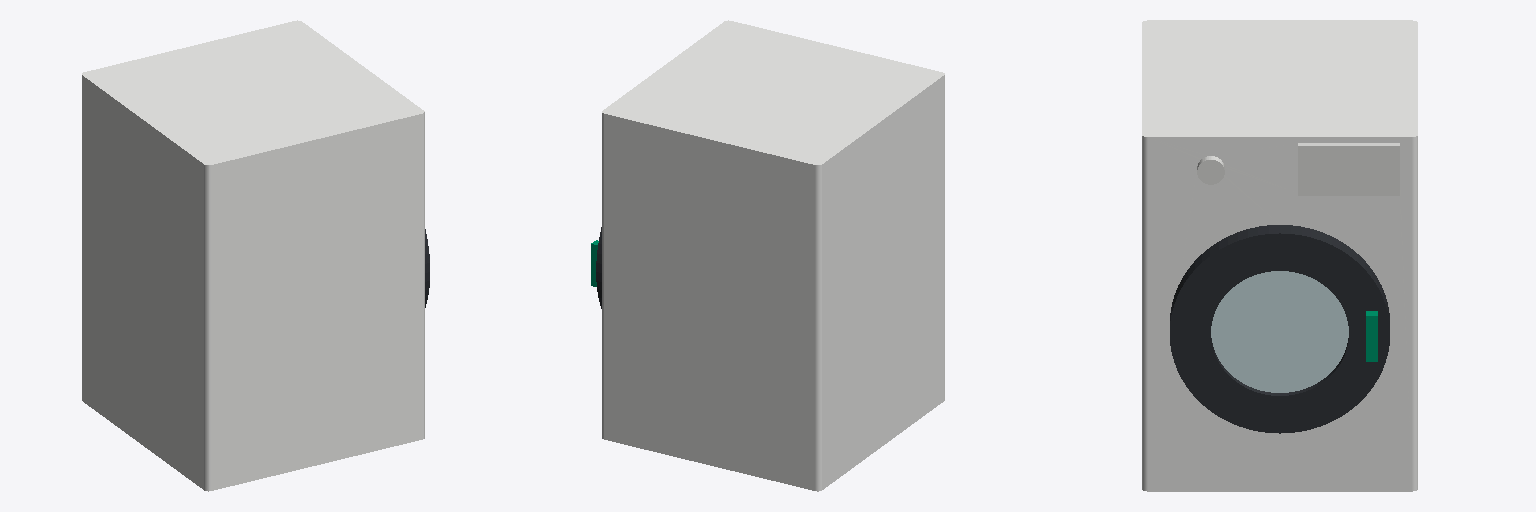
robot.urdf — washing_machine:
<?xml version="1.0"?>
<!-- written by sand3d: washing_machine at rest, metres and radians -->
<robot name="washing_machine">
  <link name="washing_machine">
    <visual name="cabinet">
      <origin xyz="0 0 0" rpy="0 0 0" />
      <geometry>
        <mesh filename="washer_meshes/cabinet.obj" />
      </geometry>
      <material name="plastic #f2f2f0">
        <color rgba="0.949019608 0.949019608 0.941176471 1" />
      </material>
    </visual>
  </link>
  <link name="dial">
    <visual name="dial">
      <origin xyz="0 0 0" rpy="0 0 0" />
      <geometry>
        <mesh filename="washer_meshes/dial.obj" />
      </geometry>
      <material name="plastic #e6e6e3">
        <color rgba="0.901960784 0.901960784 0.890196078 1" />
      </material>
    </visual>
  </link>
  <link name="door">
    <visual name="glass">
      <origin xyz="0 0 0" rpy="0 0 0" />
      <geometry>
        <mesh filename="washer_meshes/glass.obj" />
      </geometry>
      <material name="glass #cfe3e6 opacity=0.4">
        <color rgba="0.811764706 0.890196078 0.901960784 0.4" />
      </material>
    </visual>
    <visual name="handle">
      <origin xyz="0 0 0" rpy="0 0 0" />
      <geometry>
        <mesh filename="washer_meshes/handle.obj" />
      </geometry>
    </visual>
    <visual name="ring">
      <origin xyz="0 0 0" rpy="0 0 0" />
      <geometry>
        <mesh filename="washer_meshes/ring.obj" />
      </geometry>
      <material name="painted_metal #3a3d42">
        <color rgba="0.22745098 0.239215686 0.258823529 1" />
      </material>
    </visual>
  </link>
  <link name="drawer">
    <visual name="drawer">
      <origin xyz="0 0 0" rpy="0 0 0" />
      <geometry>
        <mesh filename="washer_meshes/drawer.obj" />
      </geometry>
      <material name="plastic #e6e6e3">
        <color rgba="0.901960784 0.901960784 0.890196078 1" />
      </material>
    </visual>
  </link>
  <link name="drum">
    <visual name="drum">
      <origin xyz="0 0 0" rpy="0 0 0" />
      <geometry>
        <mesh filename="washer_meshes/drum.obj" />
      </geometry>
      <material name="brushed_steel">
        <color rgba="0.705882353 0.717647059 0.733333333 1" />
      </material>
    </visual>
  </link>
  <joint name="dial_turn" type="continuous">
    <origin xyz="0.3 -0.15 0.775" rpy="1.57079633 0 1.57079633" />
    <parent link="washing_machine" />
    <child link="dial" />
    <axis xyz="0 0 1" />
  </joint>
  <joint name="door_hinge" type="revolute">
    <origin xyz="0.345 -0.24 0.4" rpy="1.57079633 0 1.57079633" />
    <parent link="washing_machine" />
    <child link="door" />
    <axis xyz="0 -1 0" />
    <limit lower="0" upper="2.49582083" effort="0" velocity="0" />
  </joint>
  <joint name="drawer_slide" type="prismatic">
    <origin xyz="0.3 0.15 0.775" rpy="1.57079633 0 1.57079633" />
    <parent link="washing_machine" />
    <child link="drawer" />
    <axis xyz="0 0 1" />
    <limit lower="0" upper="0.2" effort="0" velocity="0" />
  </joint>
  <joint name="drum_spin" type="continuous">
    <origin xyz="0.3 0 0.4" rpy="1.57079633 0 1.57079633" />
    <parent link="washing_machine" />
    <child link="drum" />
    <axis xyz="0 0 1" />
  </joint>
</robot>

--- Render facts (derived) ---
Views: 3 orthographic renders of the robot side by side, from view 1: azimuth 30°, elevation 25°; view 2: azimuth 150°, elevation 25°; view 3: azimuth 270°, elevation 25°.
Model washing_machine with 5 links and 4 joints (1 revolute, 2 continuous, 1 prismatic), rooted at washing_machine, posed all joints at 0.
Visible links, largest first — view 1: washing_machine; view 2: washing_machine, door; view 3: washing_machine, door, drawer, dial.
Link boxes in pixels (<box>): washing_machine: <box>82,20,424,491</box>; washing_machine: <box>602,20,944,491</box>; door: <box>591,227,601,308</box>; washing_machine: <box>1142,20,1417,491</box>; door: <box>1170,225,1389,433</box>; drawer: <box>1298,143,1399,195</box>; dial: <box>1197,156,1224,184</box>.
Size in the robot's own frame: 0.675 by 0.6 by 0.85 metres.
Meshes: 7 distinct files referenced, 7 mesh visuals loaded (7 OBJ).
